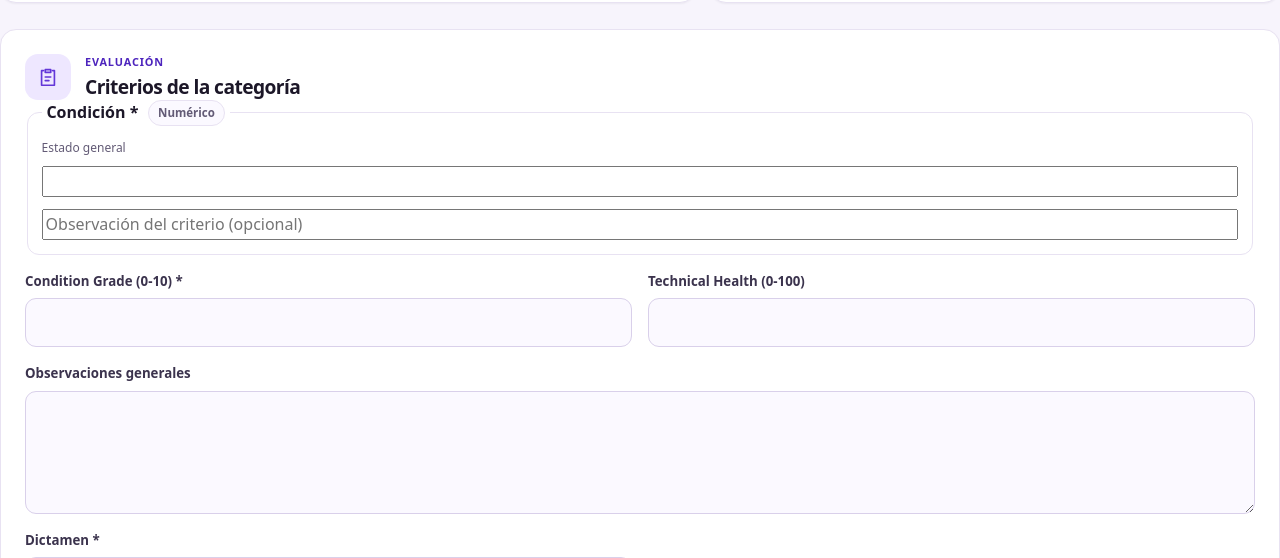
Scenario: SpecialistEvaluationPage › exige dictamen y calificación antes de finalizar y envía los criterios
The width and height of the screenshot is (1280, 558).
(page scrolled)
In the number field labelled "Condition Grade (0-10) *": [328, 323] box x1=25 y1=298 x2=632 y2=347, type "8.5"
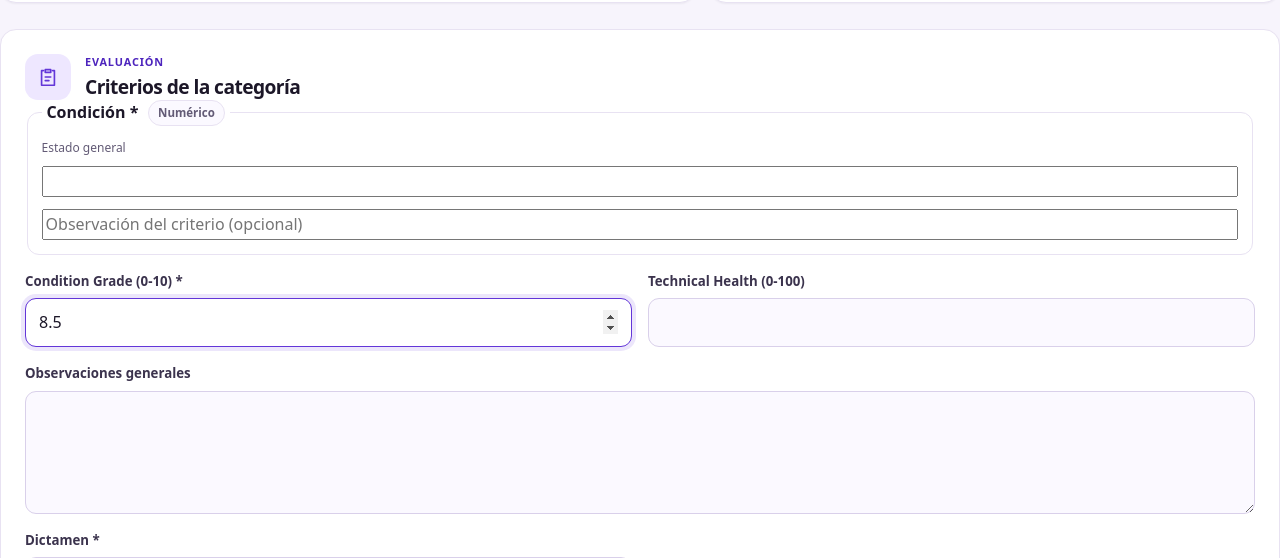
In the number field named "Valor de Condición": [640, 182] box x1=42 y1=166 x2=1238 y2=197, type "9"
(page scrolled)
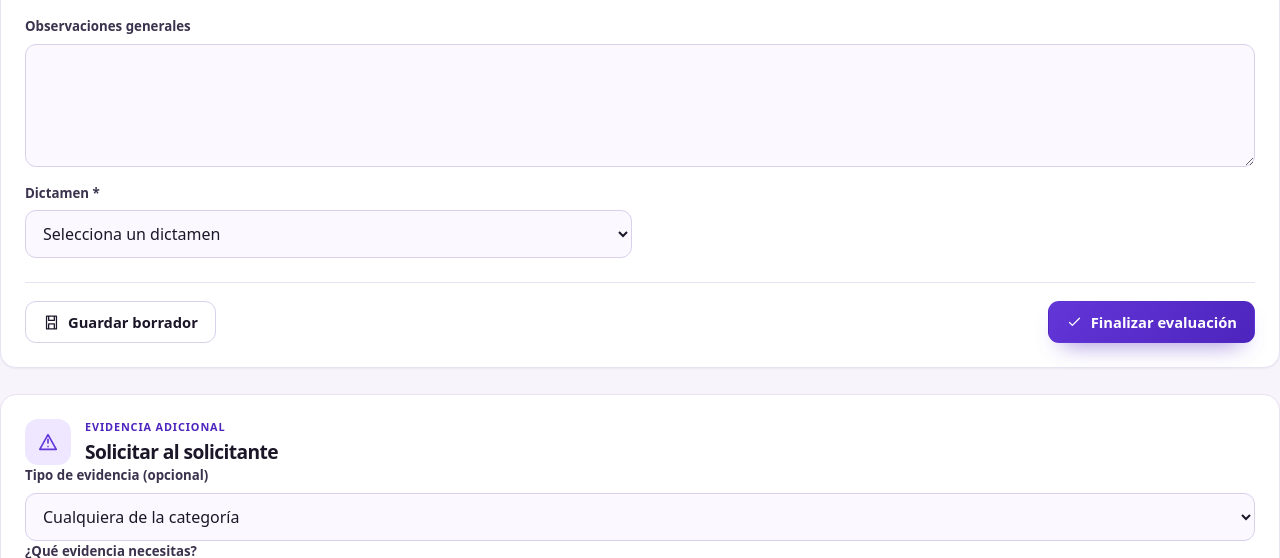
Click the button "Finalizar evaluación": [1151, 322] box x1=1048 y1=301 x2=1255 y2=343
(page scrolled)
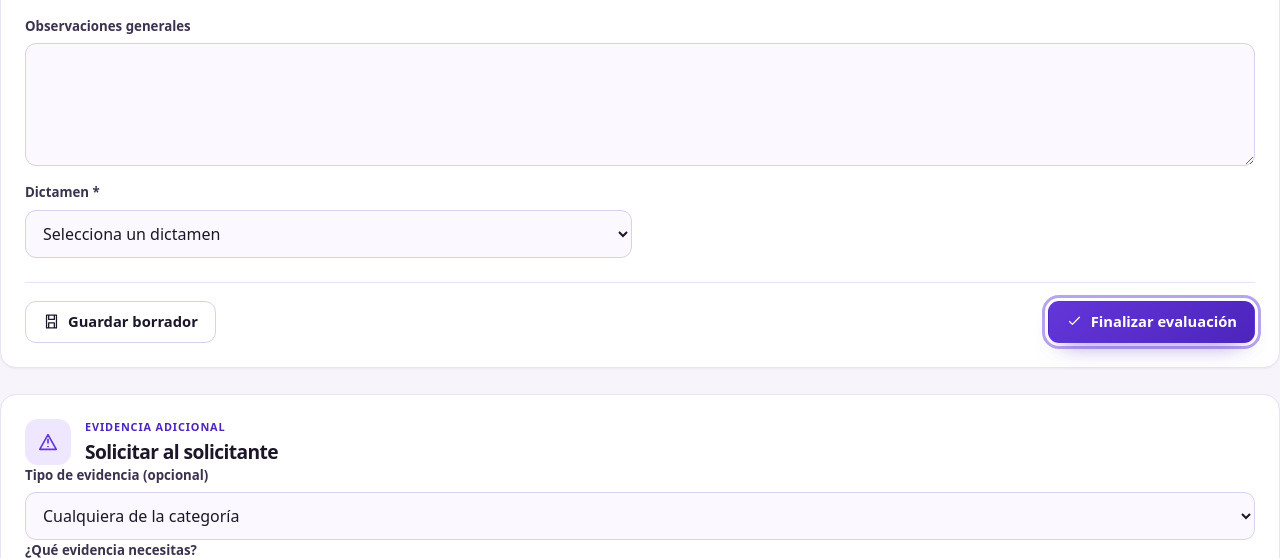
Select "Auténtico" in the dropdown labelled "Dictamen *": [328, 234] box x1=25 y1=210 x2=632 y2=258
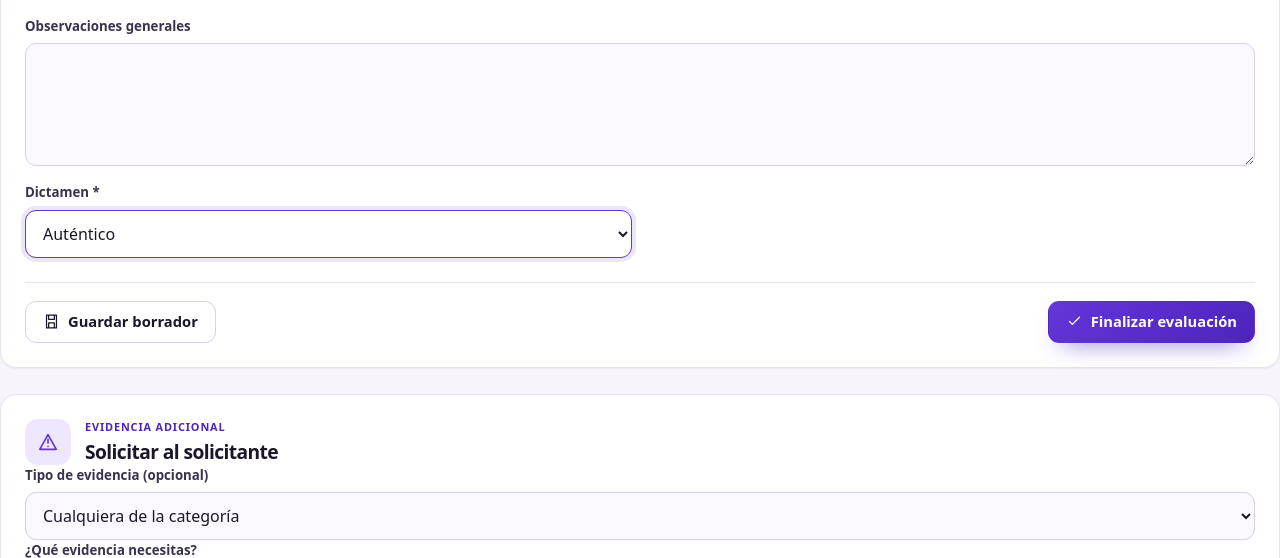
Click the button "Finalizar evaluación": [1151, 322] box x1=1048 y1=301 x2=1255 y2=343
(page scrolled)
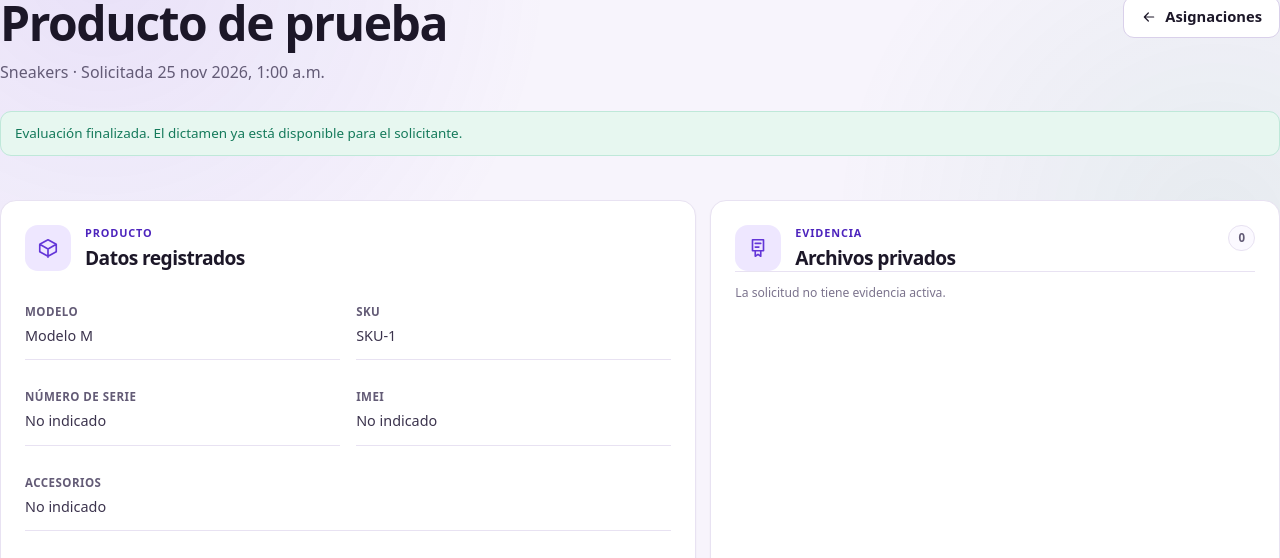
Result: the text "Evaluación finalizada. El dictamen ya está disponible para el solicitante." is shown at x1=0 y1=111 x2=1279 y2=156
